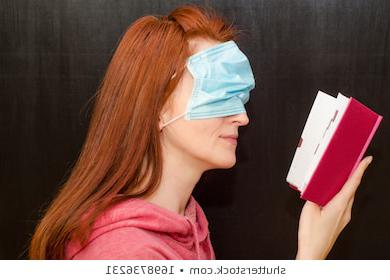mask_weared_incorrect: (185, 53, 259, 175)
